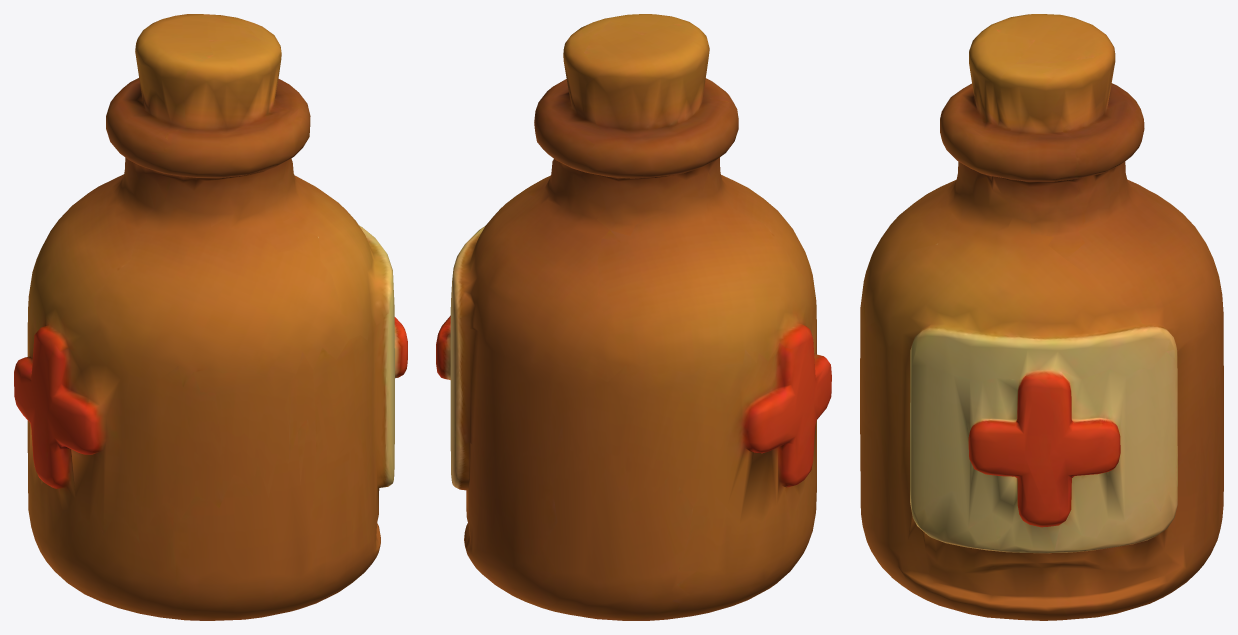
File: medicine_bottle.glb
The picture shows the model from 3 angles, left to right: view 1: azimuth 30°, elevation 25°; view 2: azimuth 150°, elevation 25°; view 3: azimuth 270°, elevation 25°; orthographic projection.
Visible parts, largest first — view 1: tripo_node_17b1c39e-d8c8-425a-88ac-590b30cf4809; view 2: tripo_node_17b1c39e-d8c8-425a-88ac-590b30cf4809; view 3: tripo_node_17b1c39e-d8c8-425a-88ac-590b30cf4809.
Boxes of the visible parts, left/top/right/bottom form: tripo_node_17b1c39e-d8c8-425a-88ac-590b30cf4809: left=14, top=14, right=407, bottom=620; tripo_node_17b1c39e-d8c8-425a-88ac-590b30cf4809: left=436, top=14, right=831, bottom=620; tripo_node_17b1c39e-d8c8-425a-88ac-590b30cf4809: left=860, top=14, right=1223, bottom=620.
Size of the model in its own units: 0.1032 by 0.15 by 0.0949.
Materials: 1 (1 with a texture image).
